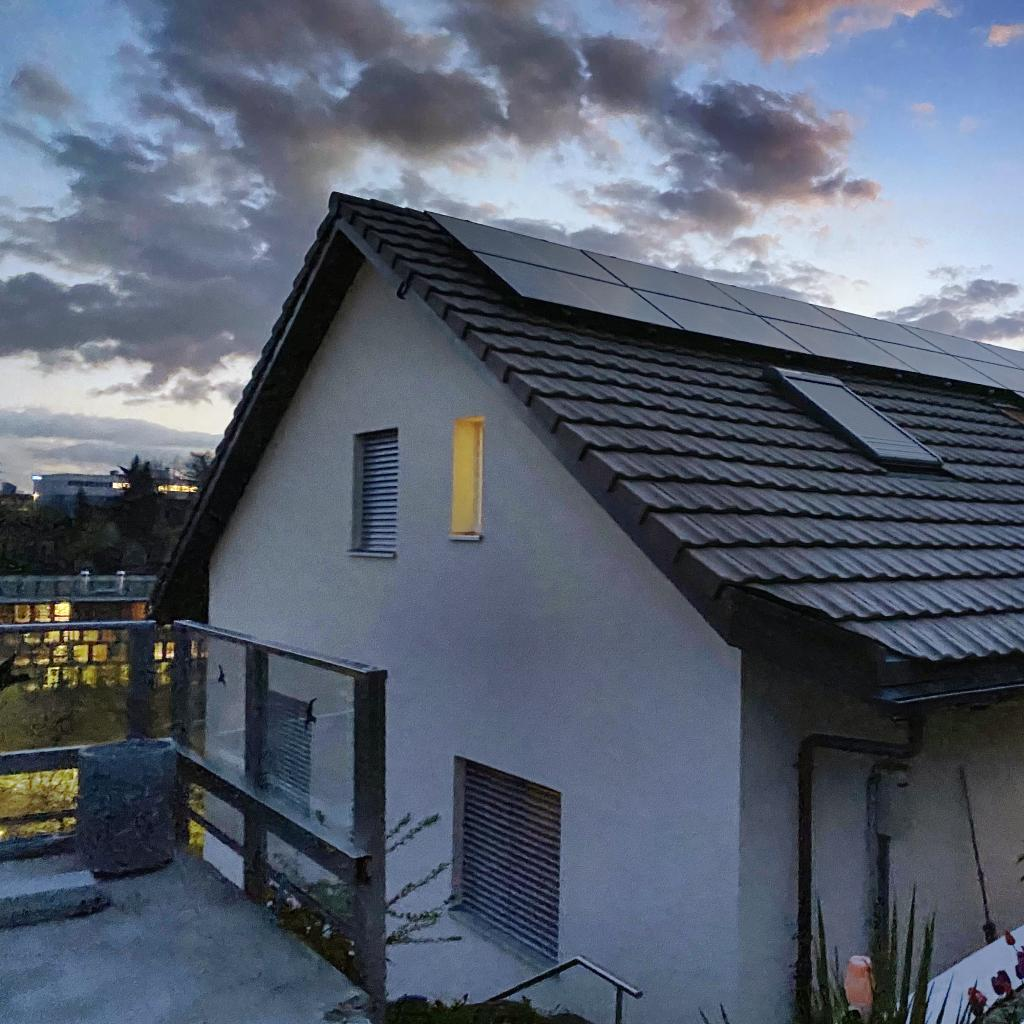facade: (136, 186, 1024, 1024), (0, 575, 207, 695), (29, 469, 201, 518)
fence: (0, 617, 390, 1024), (485, 954, 644, 1024)
vegetation: (255, 805, 597, 1024), (789, 879, 1024, 1024), (0, 449, 212, 576)
window: (461, 759, 562, 963), (262, 690, 314, 819), (360, 432, 399, 549), (450, 415, 484, 536), (158, 485, 197, 493), (112, 482, 131, 489)
